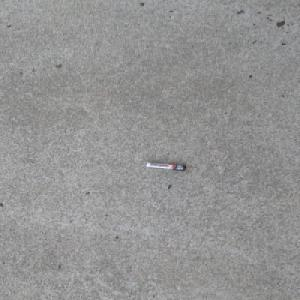Battery: (145, 162, 187, 171)
